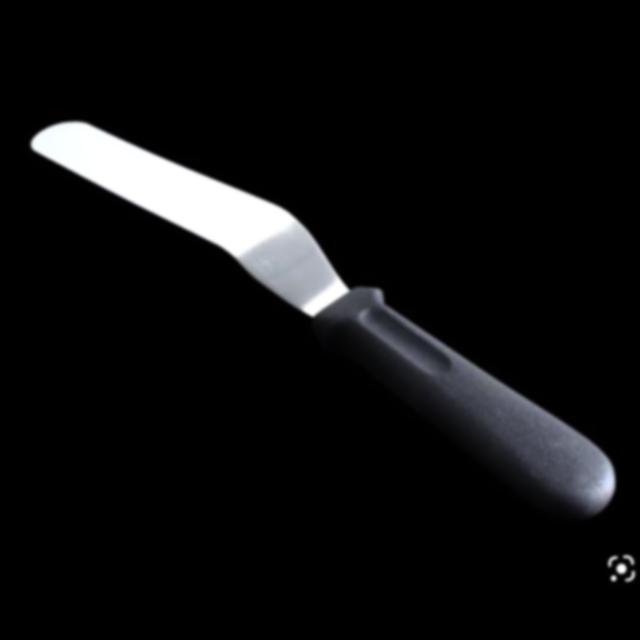knife: (0, 60, 625, 566)
